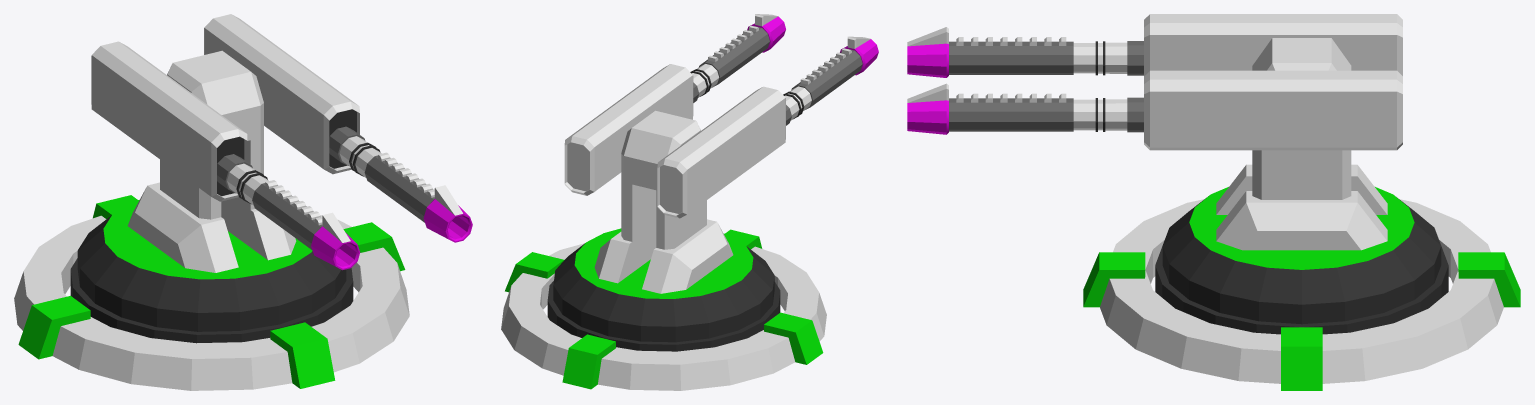
The model's file is Turret v1.fbx.
3 views of the same model, side by side, from view 1: azimuth 30°, elevation 25°; view 2: azimuth 150°, elevation 25°; view 3: azimuth 270°, elevation 25° (orthographic). The views are drawn at different scales.
Visible parts, largest first — view 1: Turret_pivot, Turret_base; view 2: Turret_pivot, Turret_base; view 3: Turret_pivot, Turret_base.
Boxes of the visible parts, x1=… form: Turret_pivot: x1=70, y1=14, x2=472, y2=343; Turret_base: x1=14, y1=195, x2=409, y2=390; Turret_pivot: x1=547, y1=14, x2=878, y2=351; Turret_base: x1=501, y1=229, x2=826, y2=390; Turret_pivot: x1=907, y1=14, x2=1448, y2=334; Turret_base: x1=1083, y1=199, x2=1520, y2=390.
Size of the model in its own units: 3.58 by 2.27 by 5.02.
